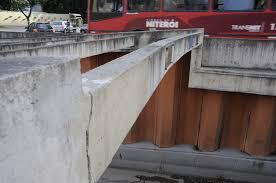crack: (85, 91, 93, 183)
